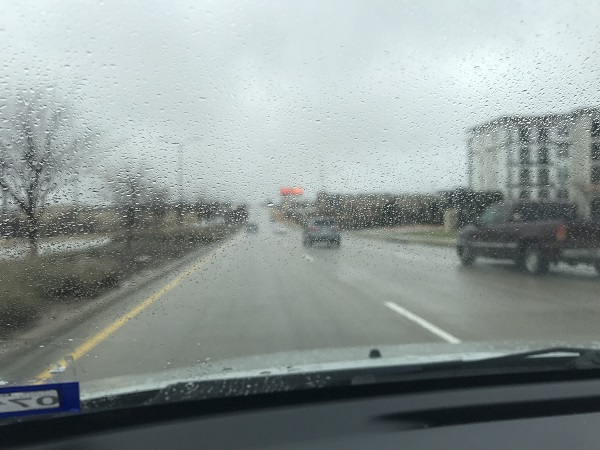car: (302, 220, 342, 249)
truck: (454, 203, 600, 279)
